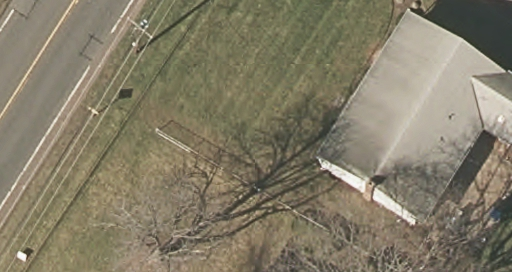DT: (120, 7, 155, 61)
